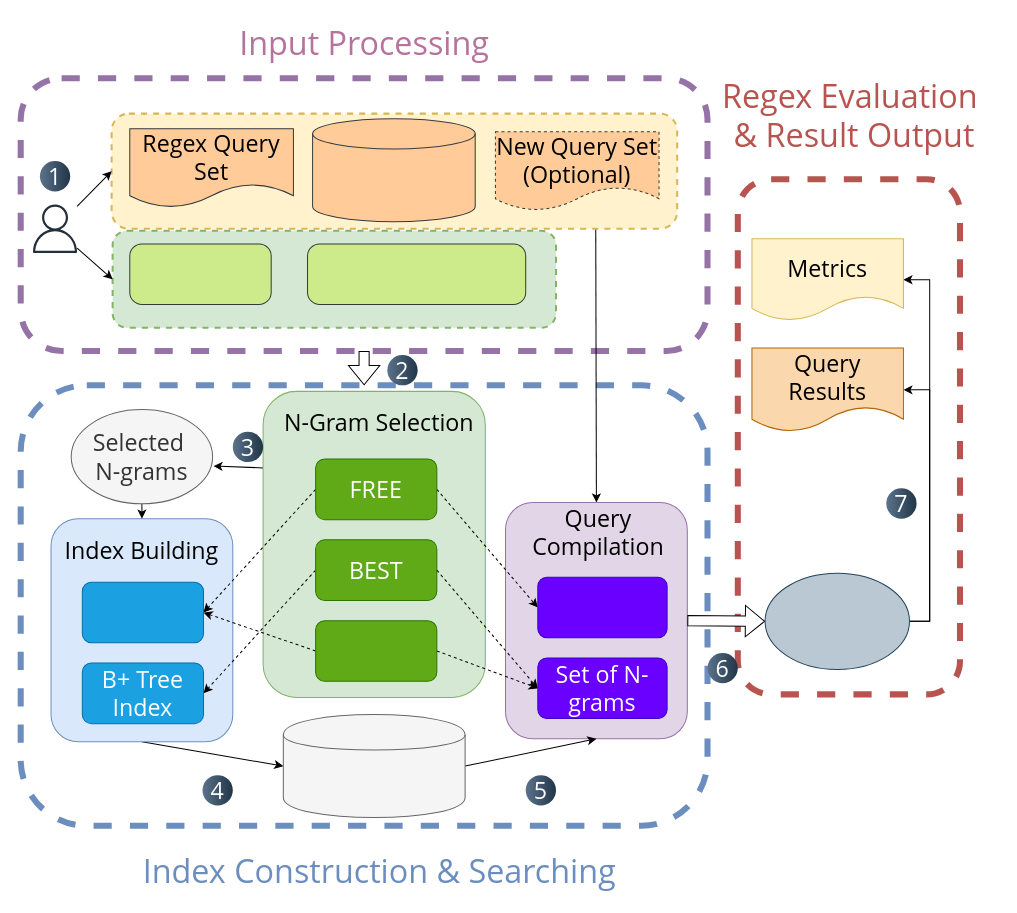
This 1017x913 diagram has some shape labels left out. The centre of each missing label's shape, as x and y in pixels:
Dataset (Text Corpus): [393,170]
Index Query Tree: [602,607]
Inverted Index: [142,612]
LPMS: [376,650]
Method Choice: [200,274]
Method Configurations: [416,274]
N-gram Index: [373,766]
Regex Engine: [837,620]
